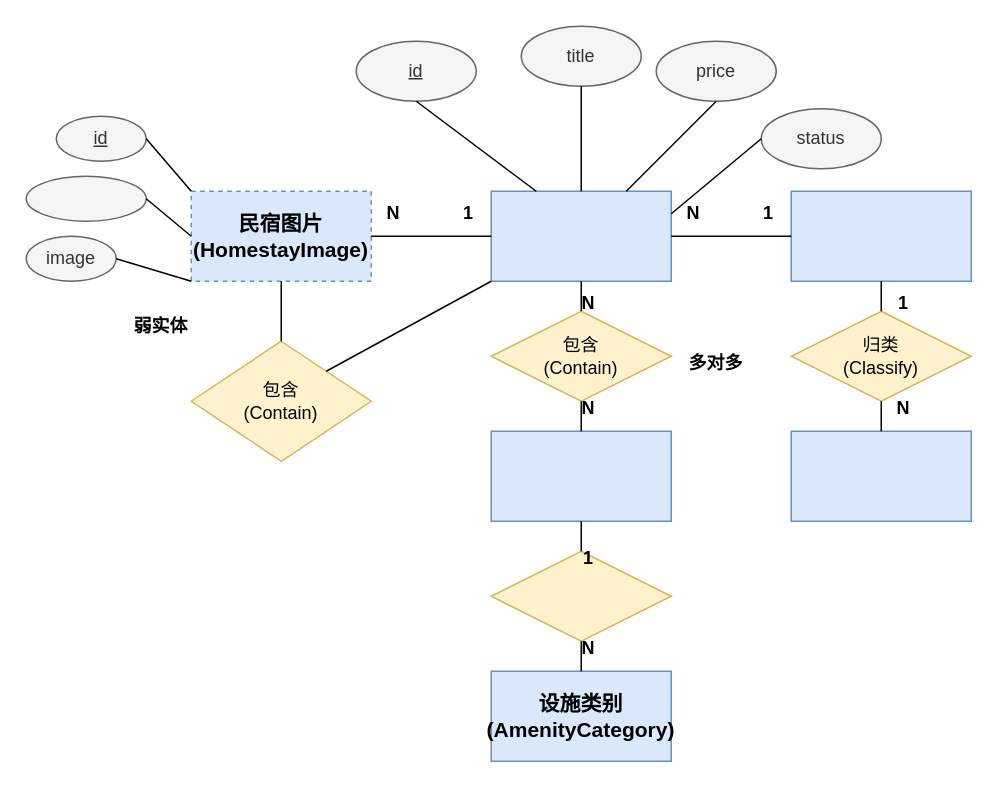
This 998x788 diagram has some shape labels left out. Each missing label, with the box of its shape:
homestayId: (25, 175, 146, 221)
分类 (Categorize): (490, 550, 671, 641)
民宿(Homestay): (490, 190, 671, 281)
民宿类型 (HomestayType): (790, 190, 971, 281)
类型类别 (TypeCategory): (790, 430, 971, 521)
设施(Amenity): (490, 430, 671, 521)
